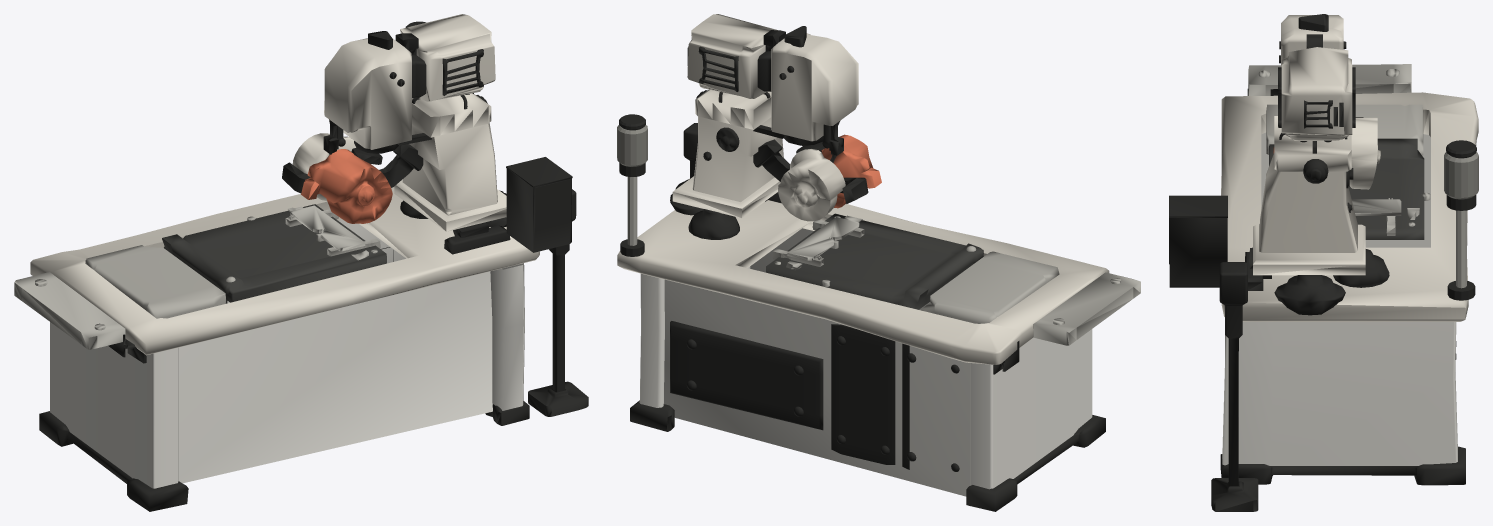
The model's file is grinder.glb.
3 views of the same model, side by side, from view 1: azimuth 30°, elevation 25°; view 2: azimuth 150°, elevation 25°; view 3: azimuth 270°, elevation 25° (orthographic). The views are drawn at different scales.
Parts seen in each view (by area): view 1: grinder_parts, table_parts; view 2: grinder_parts, table_parts; view 3: grinder_parts, table_parts.
Boxes of the visible parts, left/top/right/bottom form: grinder_parts: left=30, top=14, right=588, bottom=511; table_parts: left=14, top=204, right=386, bottom=349; grinder_parts: left=617, top=14, right=1109, bottom=511; table_parts: left=766, top=213, right=1140, bottom=345; grinder_parts: left=1169, top=14, right=1478, bottom=511; table_parts: left=1248, top=64, right=1430, bottom=239.
Size of the model in its own units: 2.44 by 1.83 by 1.24.
